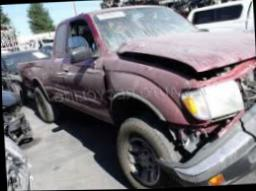Bonnet: (111, 32, 255, 83)
Bumper: (155, 59, 256, 187)
Fender: (98, 57, 203, 128), (16, 61, 54, 100)
Windshield: (93, 8, 200, 50)
